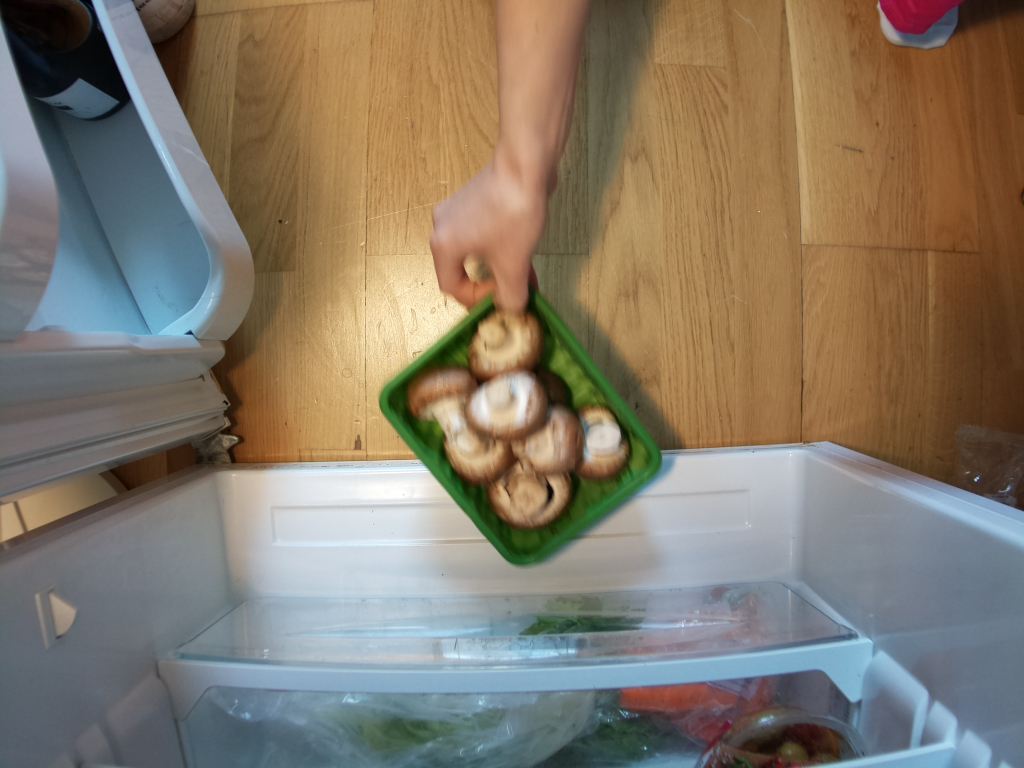mushrooms: (387, 279, 666, 565)
